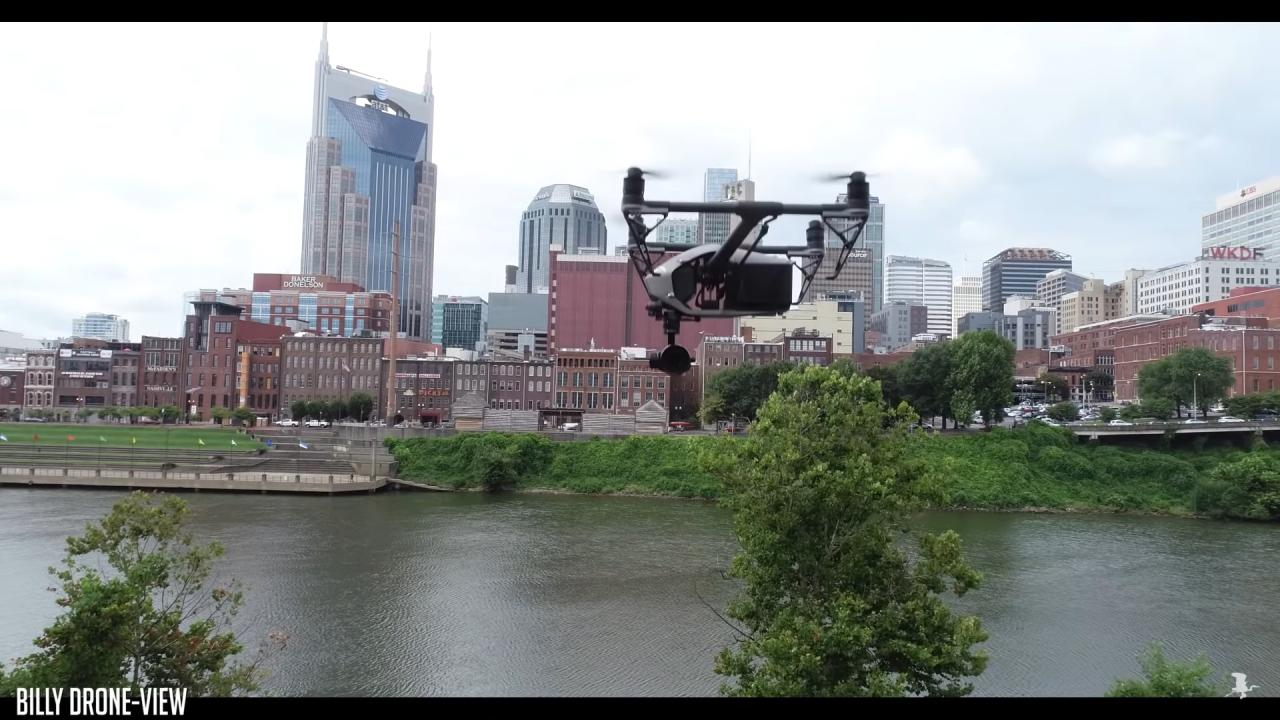Drone: (582, 147, 912, 386)
